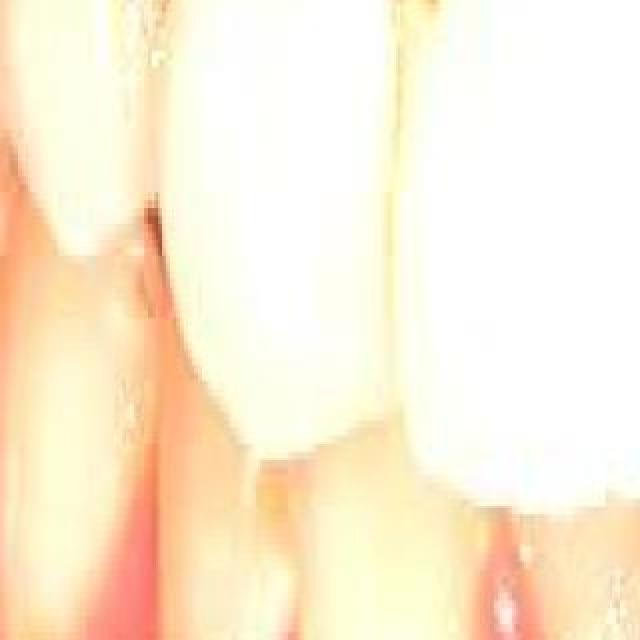plaque: (210, 476, 422, 640)
stains: (356, 0, 532, 70)
